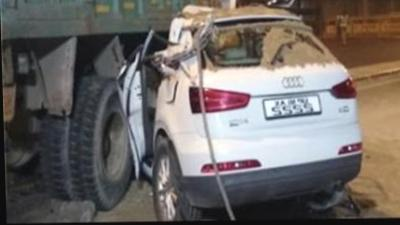License_Plate: (267, 89, 323, 120)
